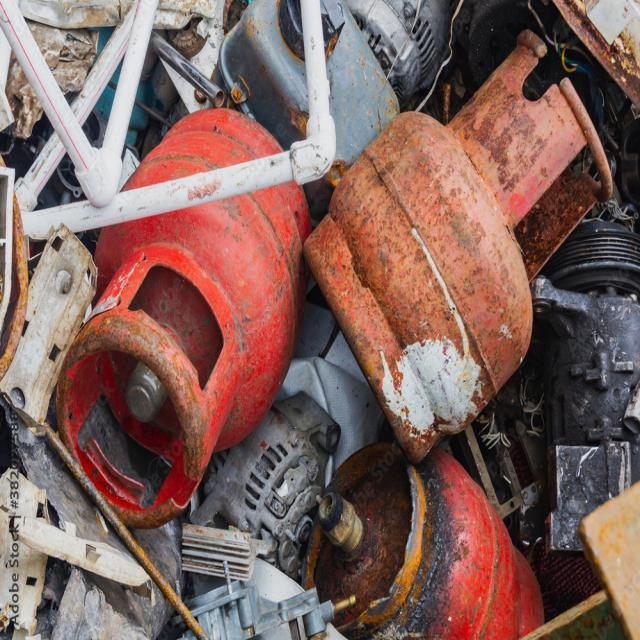Cylinder: (56, 182, 310, 528), (304, 112, 532, 462), (302, 442, 544, 639), (122, 111, 280, 195)
others: (191, 392, 340, 576)
